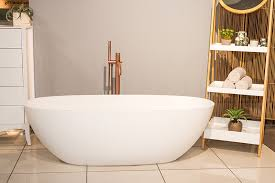bathub: (22, 90, 214, 167)
